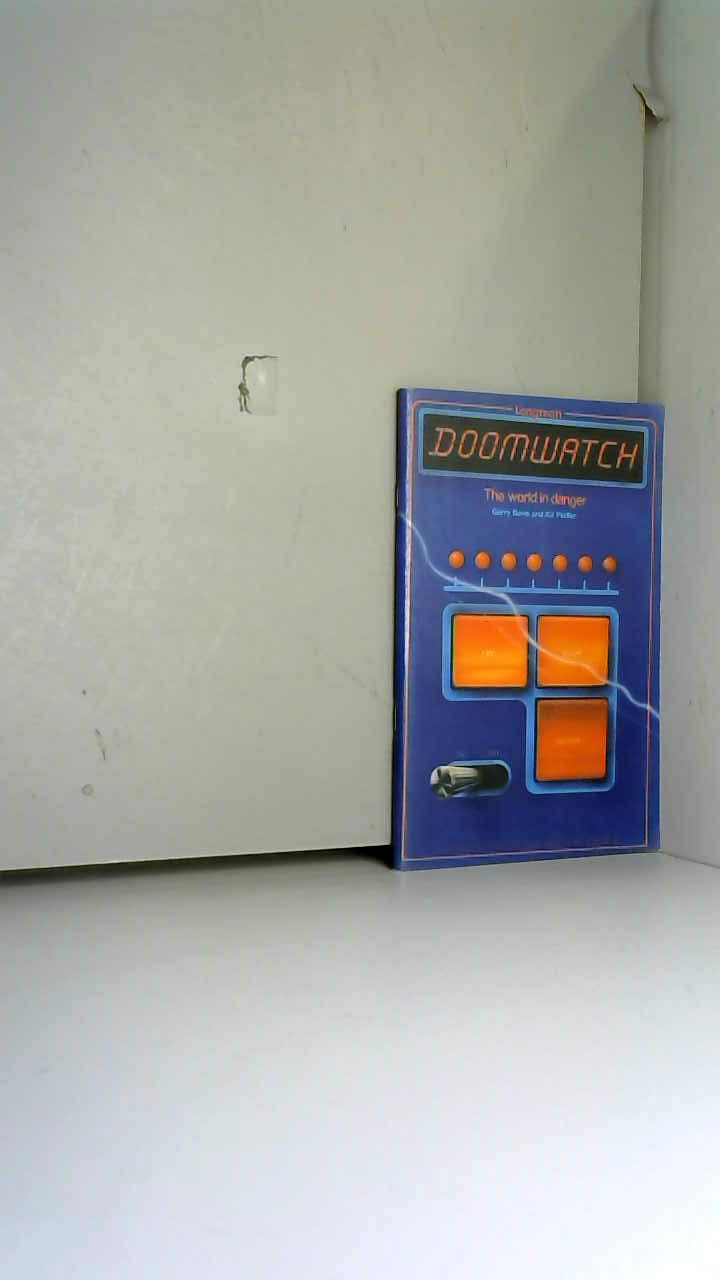book: (356, 349, 701, 908)
